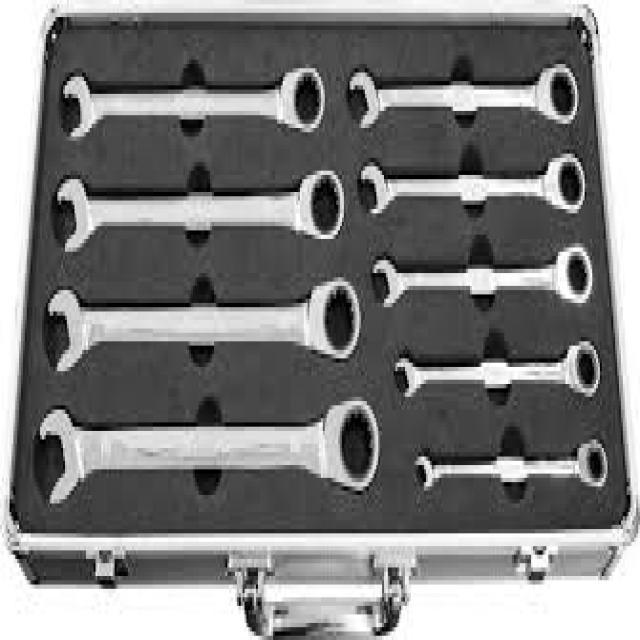wrench: (29, 394, 380, 497), (51, 152, 348, 260), (43, 275, 363, 372), (57, 61, 332, 141), (346, 59, 582, 132), (357, 146, 589, 220), (373, 234, 597, 309), (395, 336, 603, 414), (413, 434, 613, 495)
